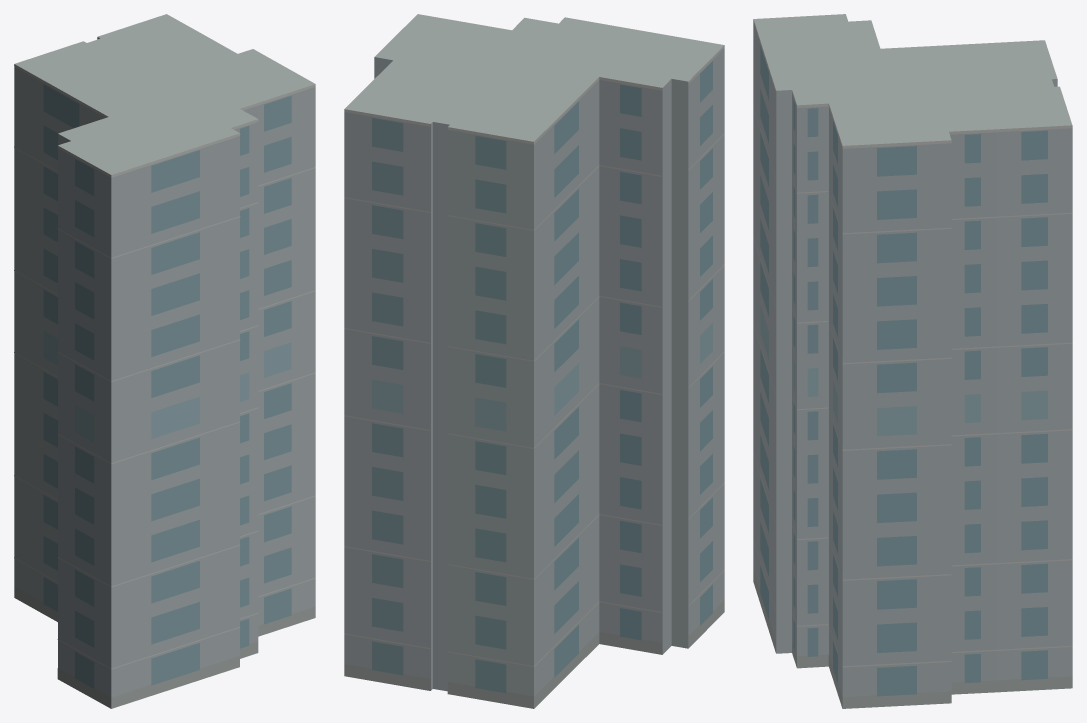
Rendered from survey-upis-32461362.glb.
The picture shows the model from 3 angles, left to right: view 1: azimuth 30°, elevation 25°; view 2: azimuth 150°, elevation 25°; view 3: azimuth 270°, elevation 25°; orthographic projection. The views are drawn at different scales.
Visible parts, largest first — view 1: survey-upis-32461362.tmp; view 2: survey-upis-32461362.tmp; view 3: survey-upis-32461362.tmp.
Part boxes in pixels (bbox=[...]): survey-upis-32461362.tmp: bbox=[14, 14, 315, 708]; survey-upis-32461362.tmp: bbox=[344, 14, 724, 708]; survey-upis-32461362.tmp: bbox=[753, 14, 1072, 708].
Bounding box in the file's own units: 24 × 47.7 × 24.52.
